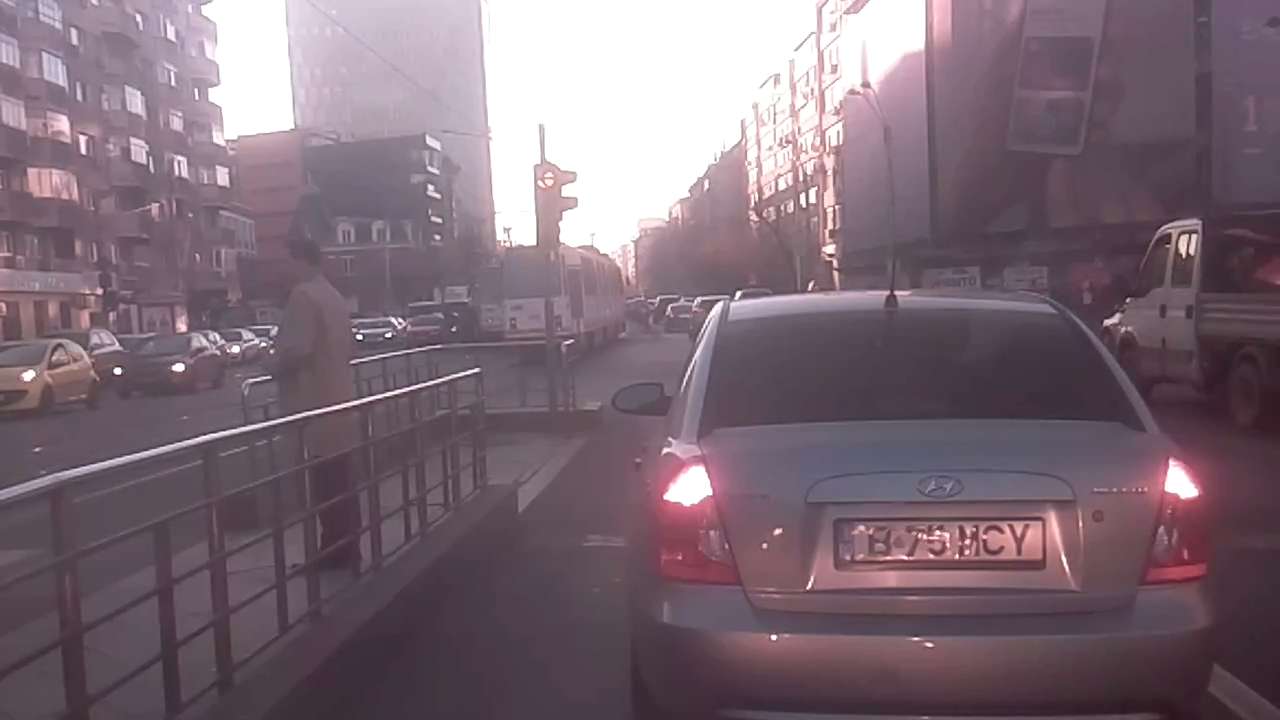license-plate: (827, 511, 1050, 574)
